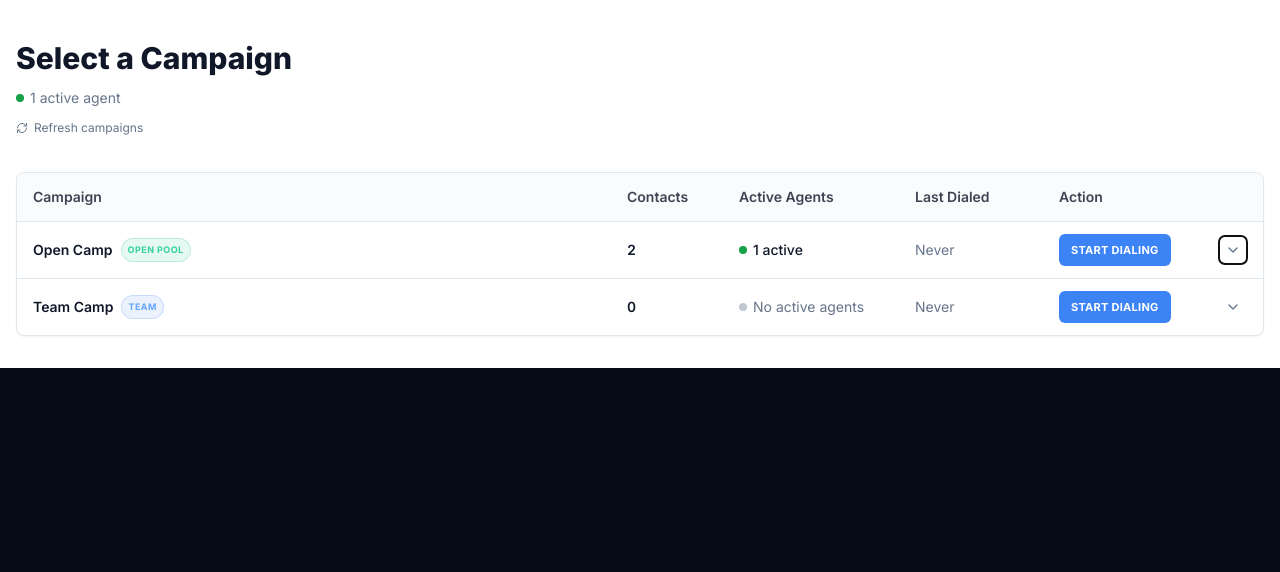
Test: expand/collapse › expands and collapses via the chevron (keyboard-operable native button)
Click the button named "Show details for Open Camp" at (1233, 250), box [1219,236,1247,264]
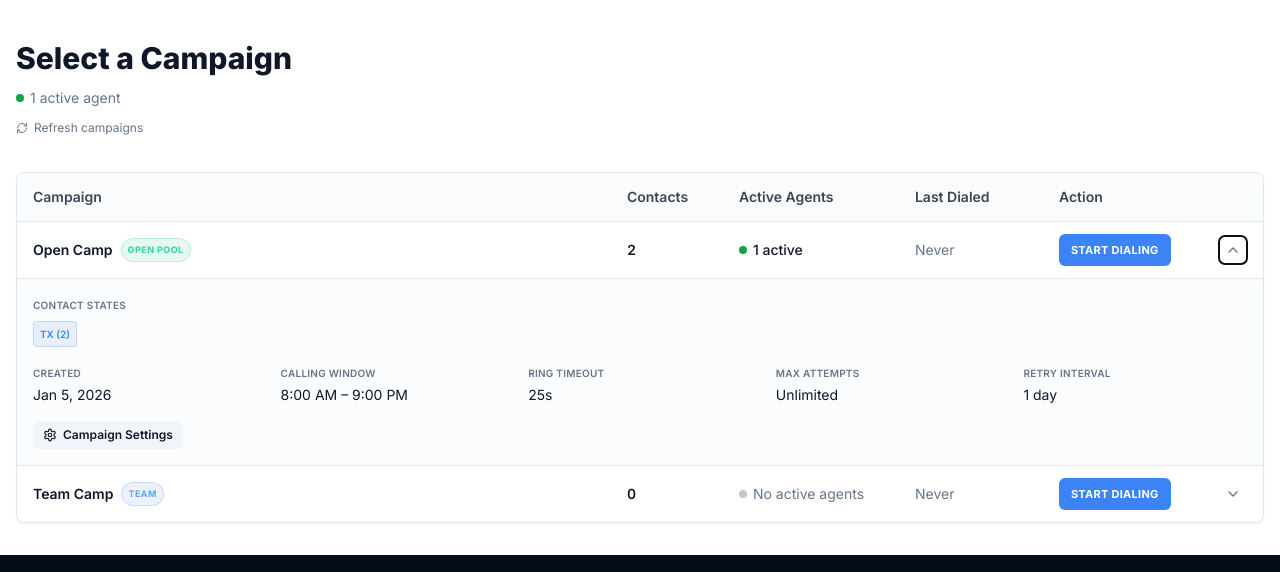
Expected: the row with test id "campaign-details-c-open" is shown, [17,278,1263,465]
Click the button named "Hide details for Open Camp" at (1233, 250), box [1219,236,1247,264]
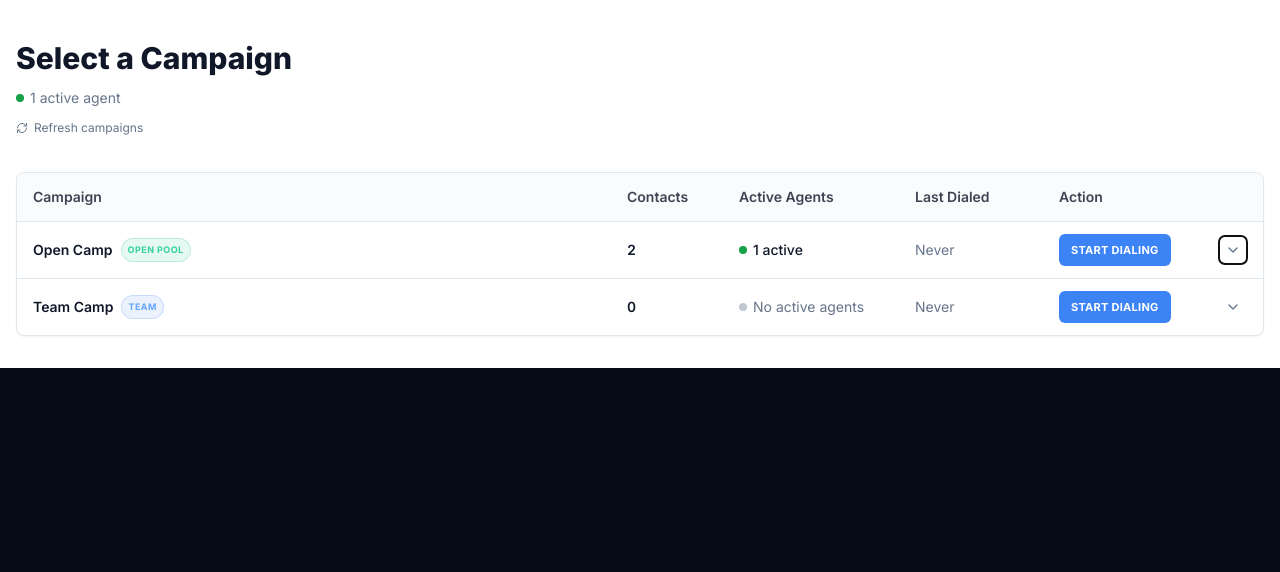
Expected: the row with test id "campaign-details-c-open" is gone
